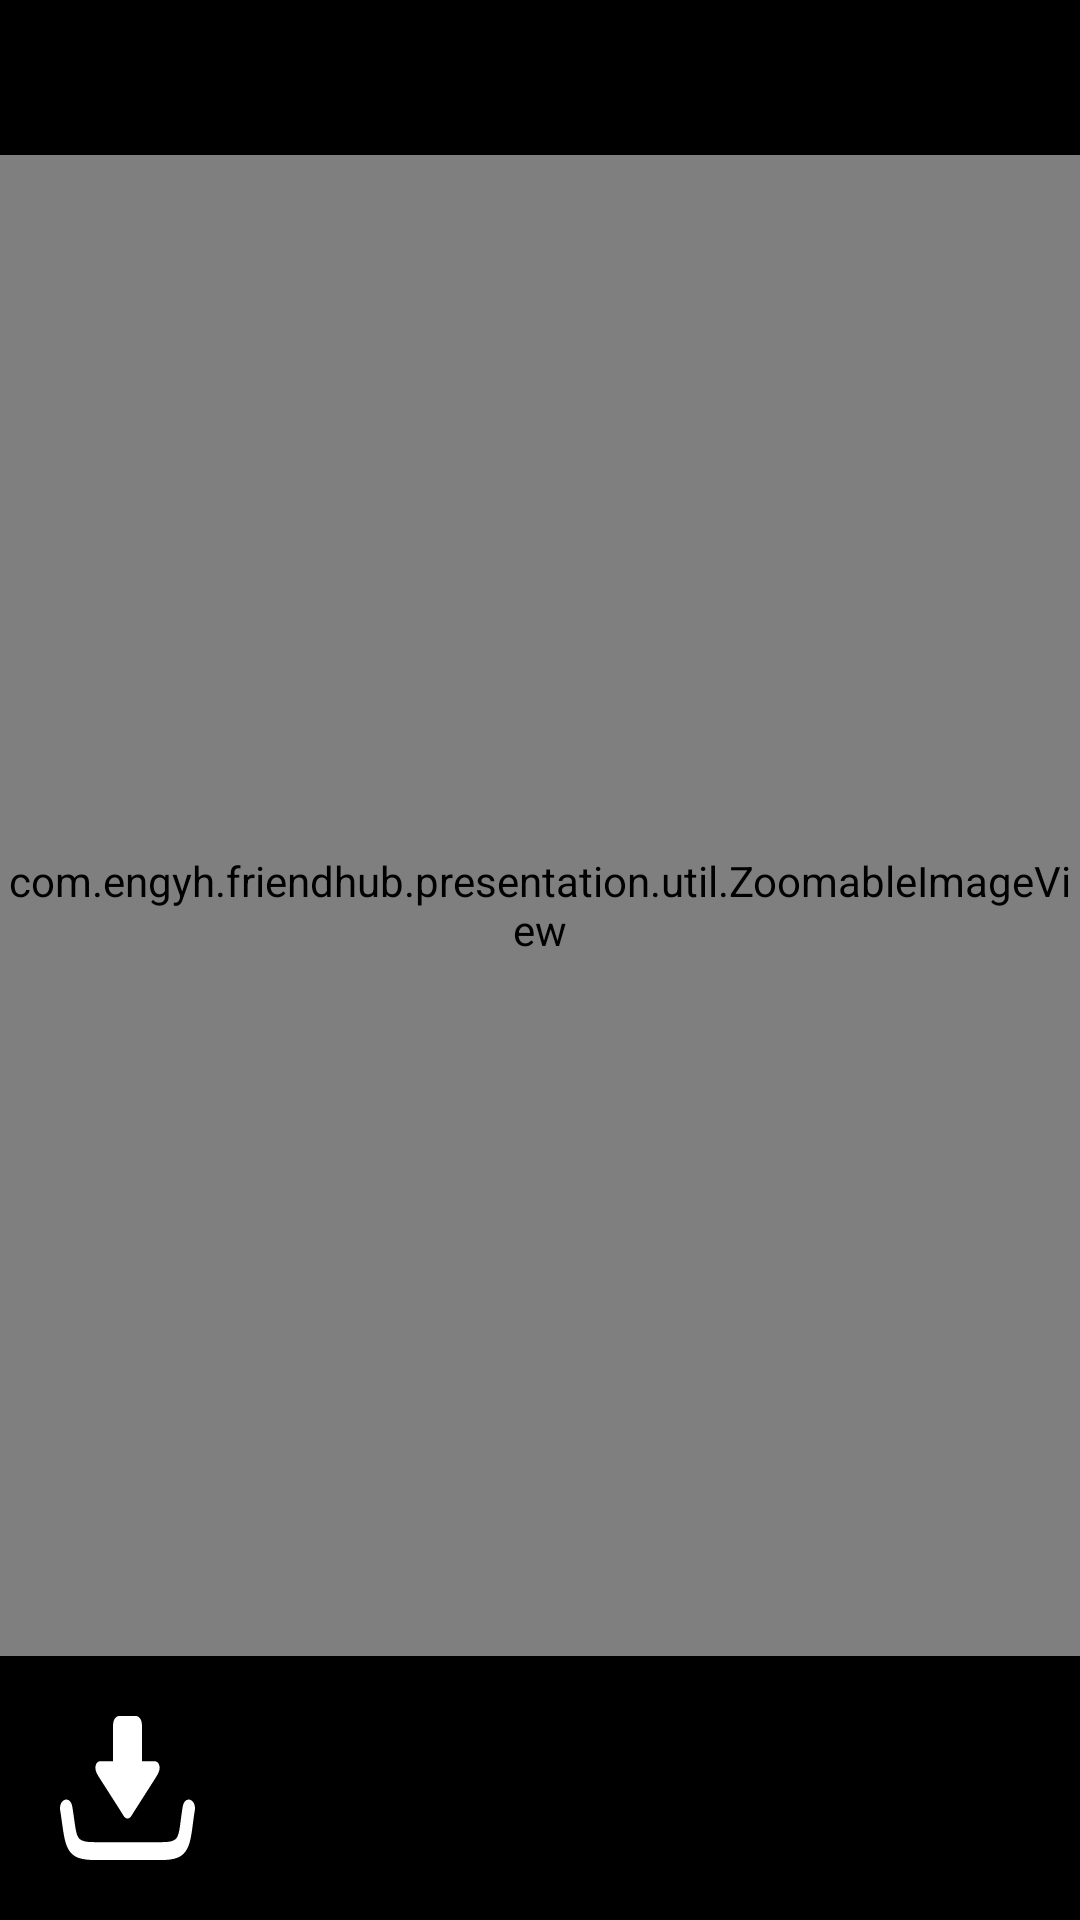

Icons on this 1080px×1920px Android screen, each with its box as (x1, y1, x2, y2):
download arrow: (60, 1716, 195, 1860)
